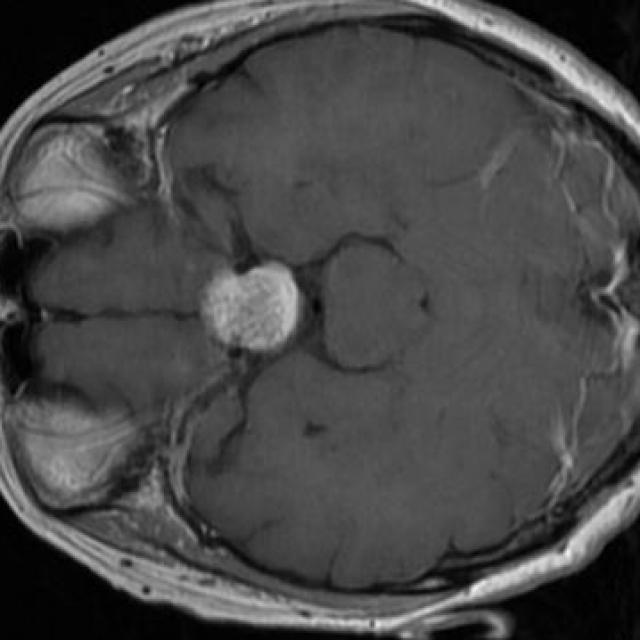pituitary: (201, 262, 303, 355)
